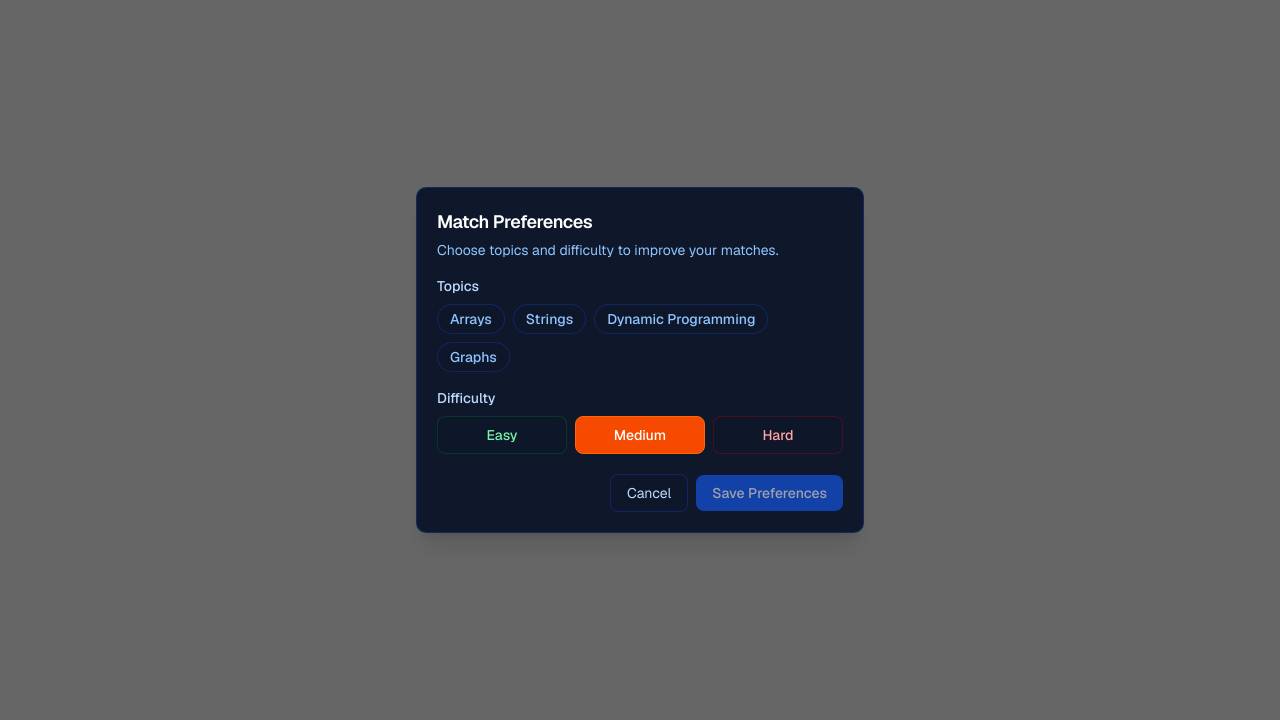
Test: PreferenceModal › displays validation error from server
Click the button "Arrays". click: (471, 319)
box: [437,304,505,334]
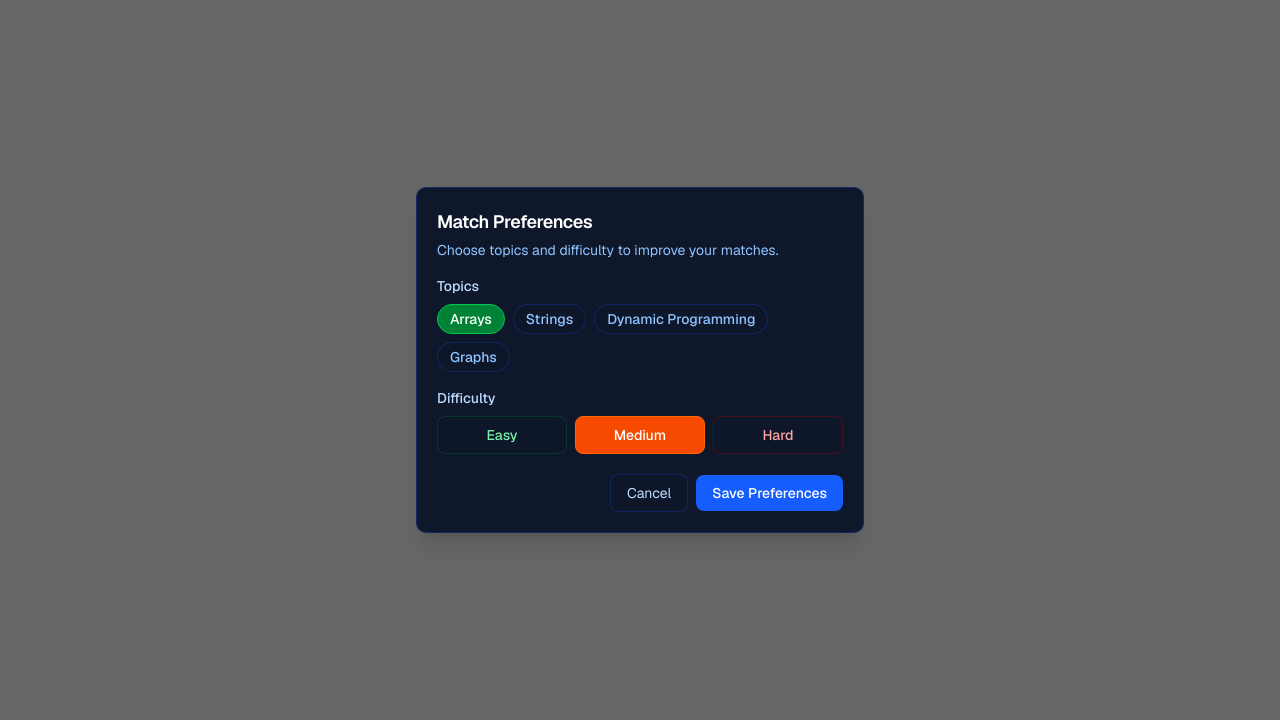
Click the button "Save Preferences". click: (770, 493)
box: [696,475,843,511]
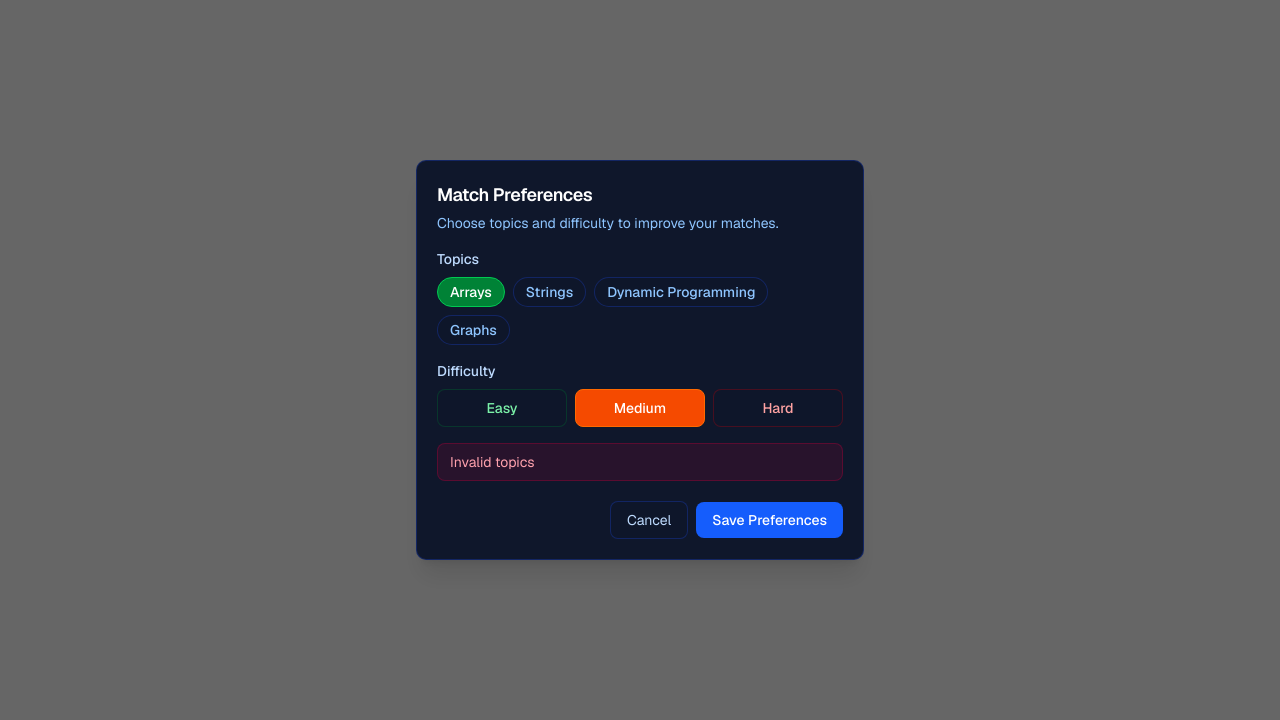
expect the text "Invalid topics" is shown: met, box [437,443,843,481]
